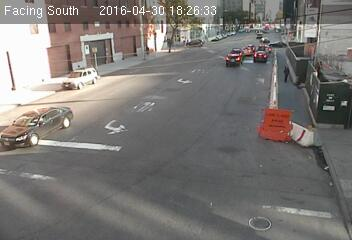neg: (132, 16, 151, 42), (179, 21, 195, 41), (99, 49, 107, 60)
pos: (278, 61, 293, 80)
